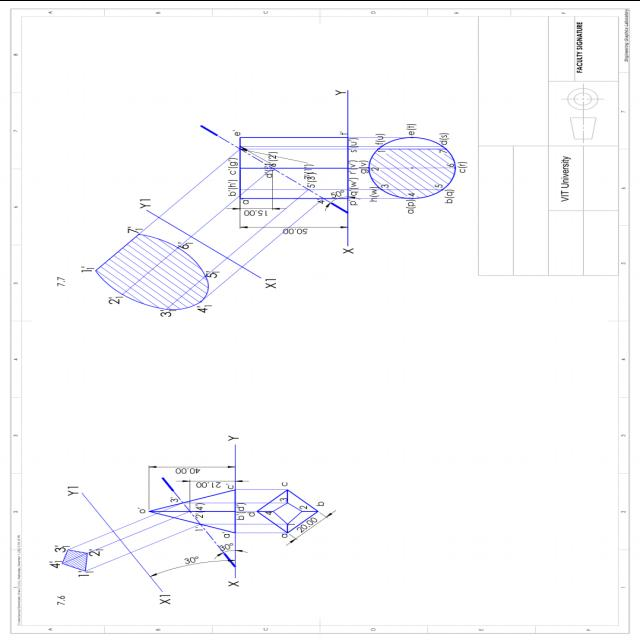Drawings: (43, 66, 472, 326), (31, 423, 352, 616)
